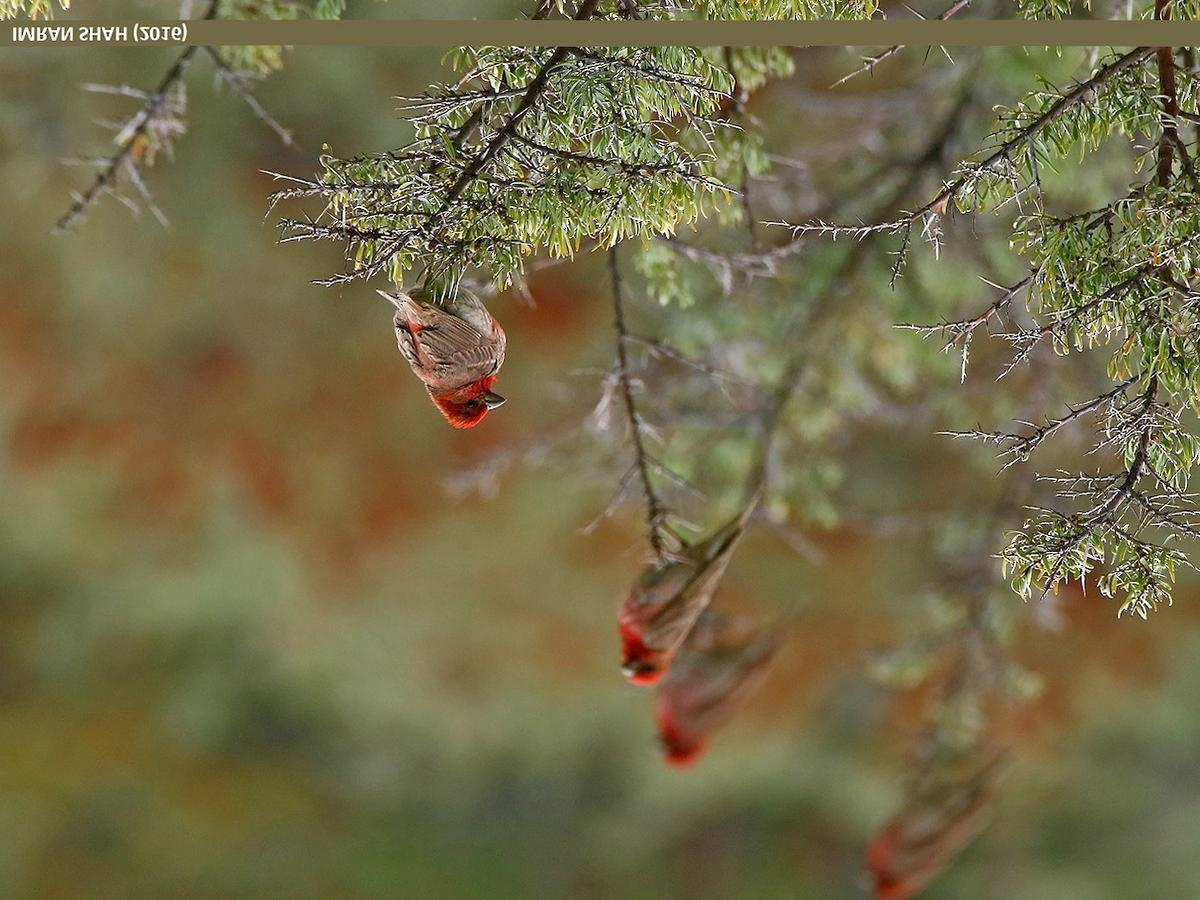rosefinch: (613, 517, 729, 706), (384, 280, 510, 427)
